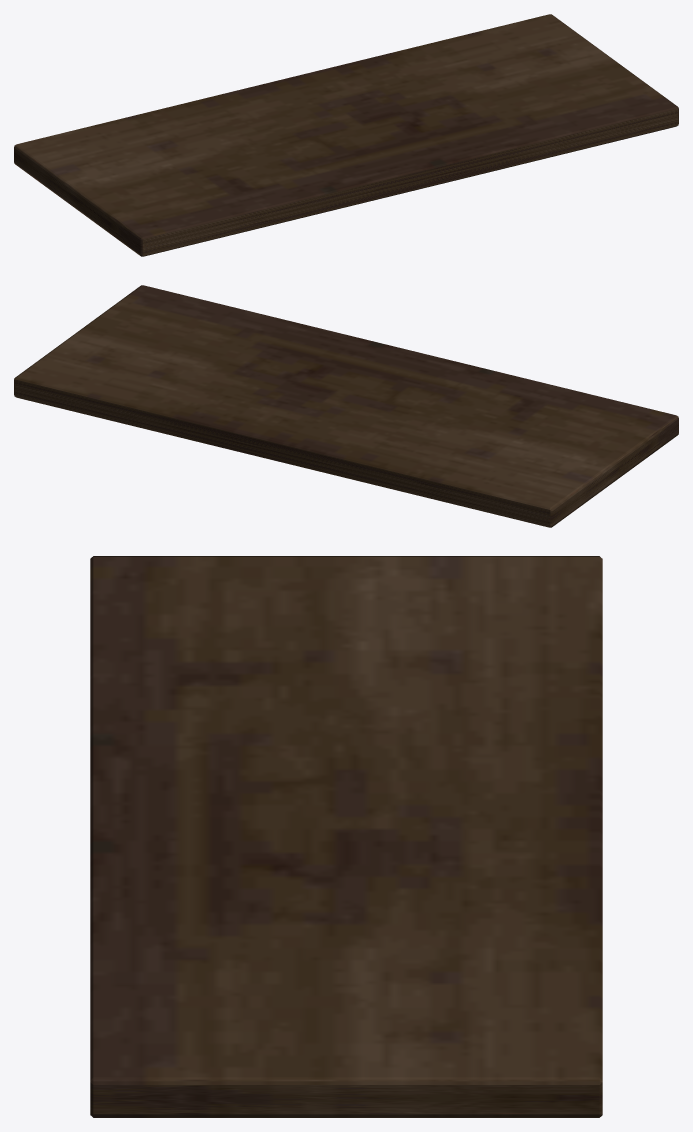
3 views of the same model, one above another, from view 1: azimuth 30°, elevation 25°; view 2: azimuth 150°, elevation 25°; view 3: azimuth 270°, elevation 25° (orthographic). The views are drawn at different scales.
Visible parts, largest first — view 1: Metal___Stainless_steel.001_1; view 2: Metal___Stainless_steel.001_1; view 3: Metal___Stainless_steel.001_1.
Part boxes in pixels (x1=…): Metal___Stainless_steel.001_1: x1=14, y1=14, x2=678, y2=256; Metal___Stainless_steel.001_1: x1=14, y1=285, x2=678, y2=527; Metal___Stainless_steel.001_1: x1=90, y1=556, x2=602, y2=1117.
Size of the model in its own units: 0.4317 by 0.0152 by 0.1778.
Materials: 1 (1 with a texture image).
